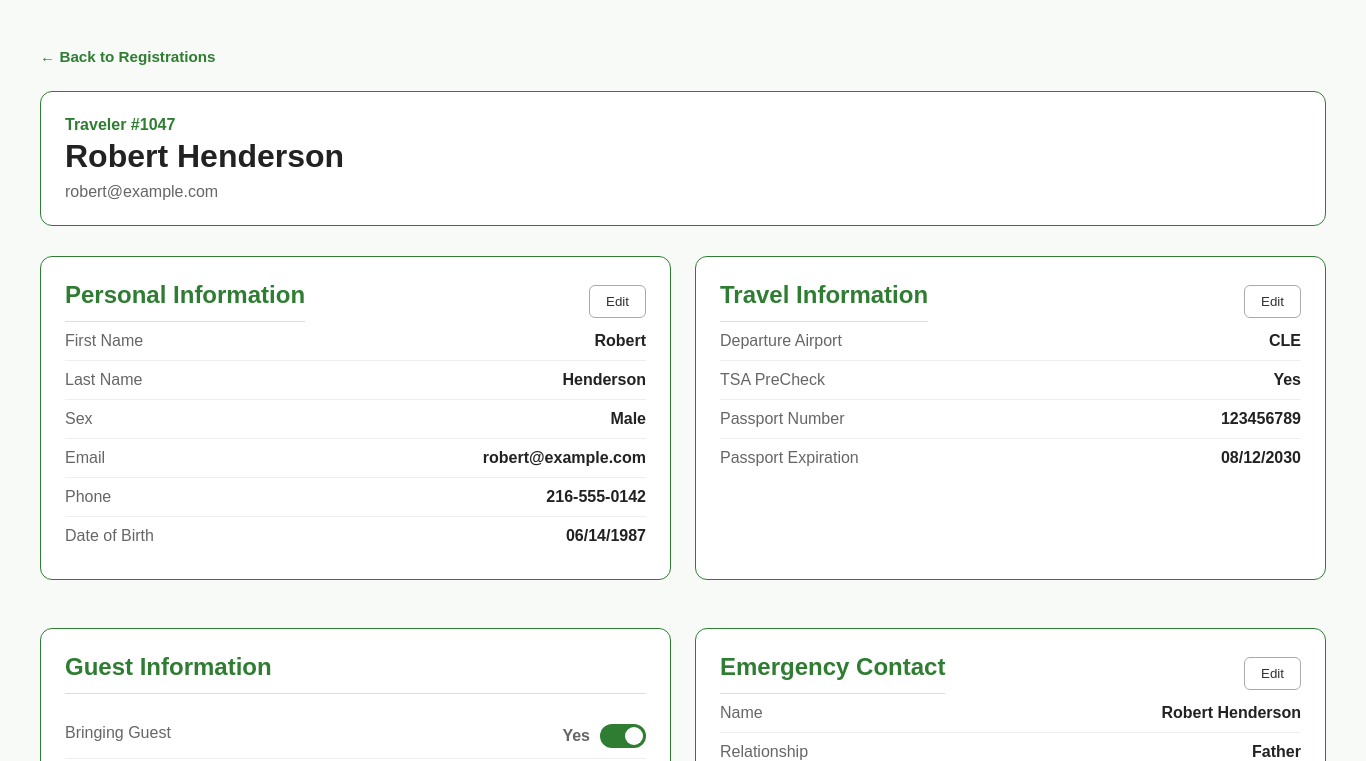
Scenario: RegistrationDetails › provides a sex dropdown and saves the selected sex and date of birth
The width and height of the screenshot is (1366, 761).
Click the button "Edit" in the row of "Personal Information": [618, 302] box [589,285,646,318]
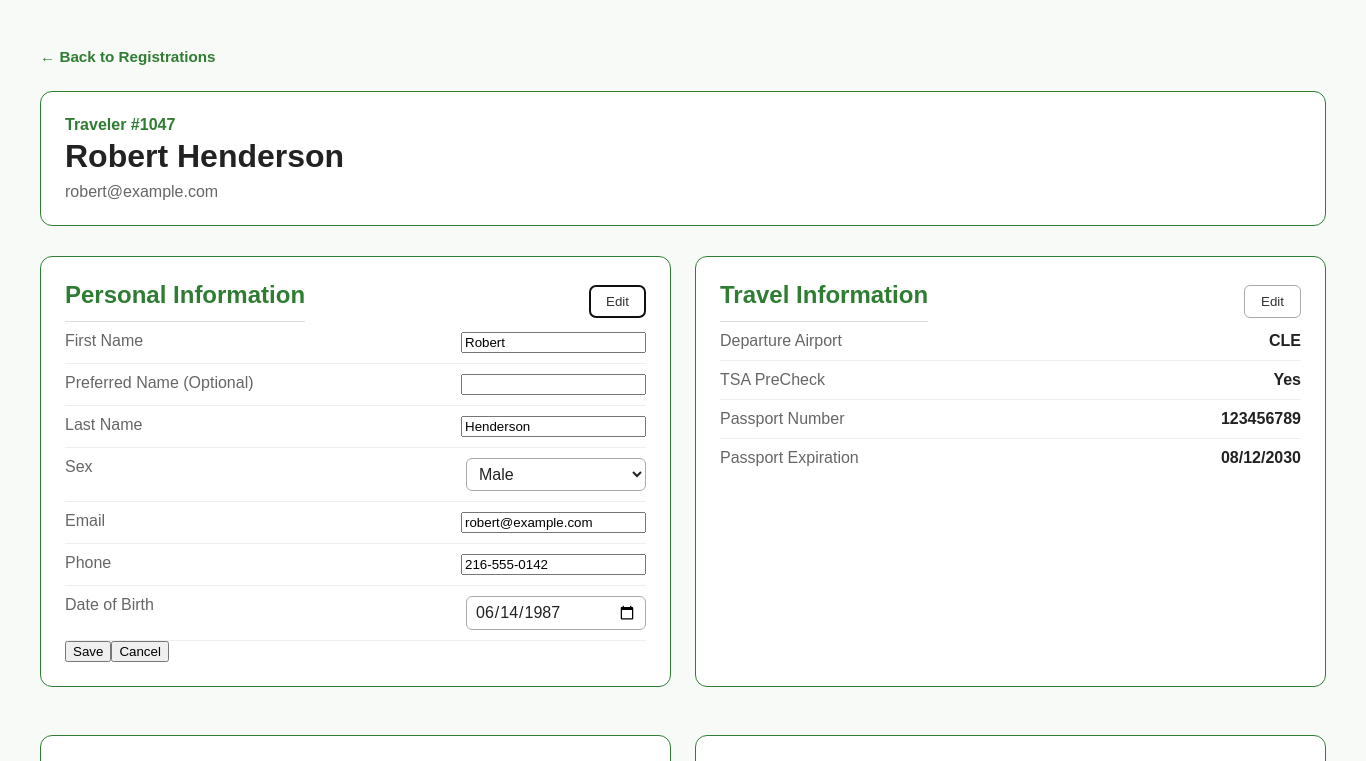
Check: the dropdown named "Sex" shows "Male"
Check: the date field named "Date of Birth" holds "1987-06-14", box [466,596,646,630]
Select "Female" in the dropdown named "Sex": [556, 474] box [466,458,646,491]
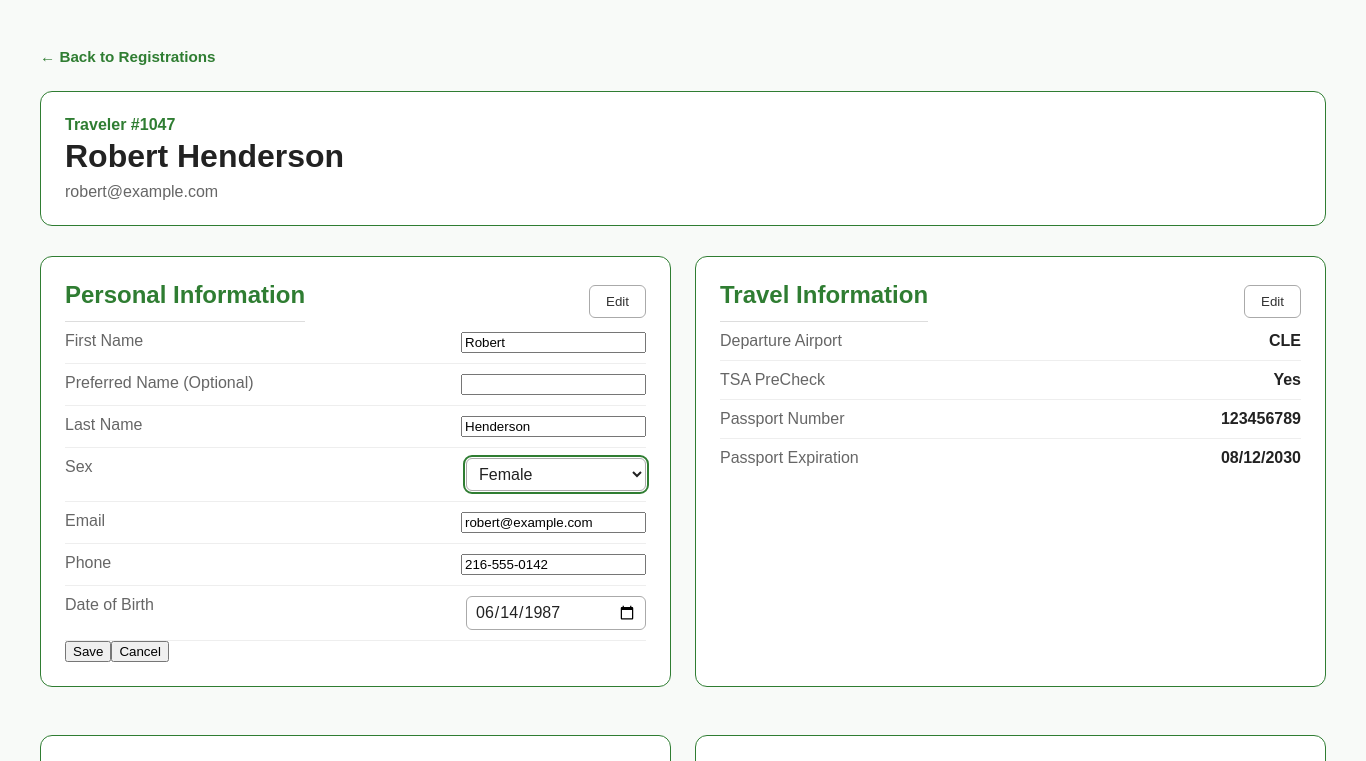
In the date field named "Date of Birth": [556, 613] box [466,596,646,630], type "1990-04-25"
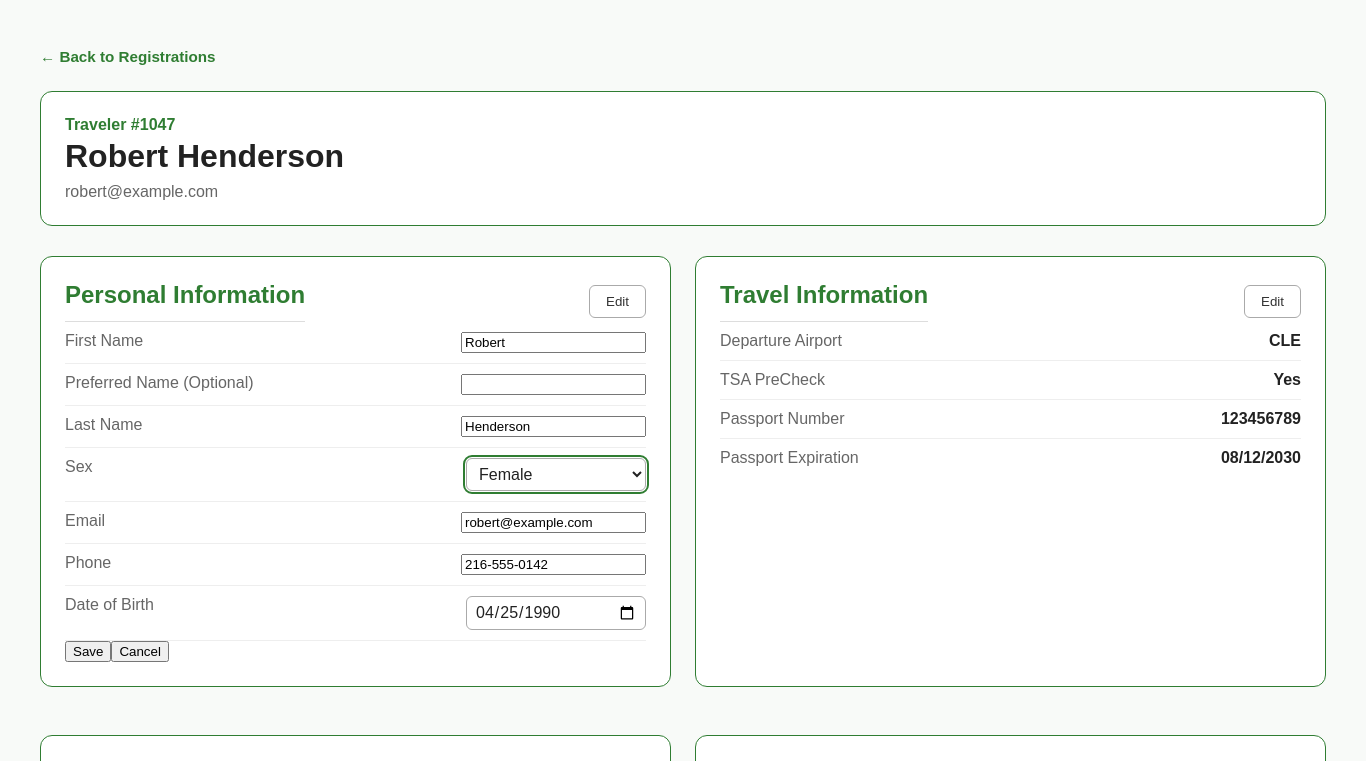
Click the button "Save": [88, 652] box [65,641,111,662]
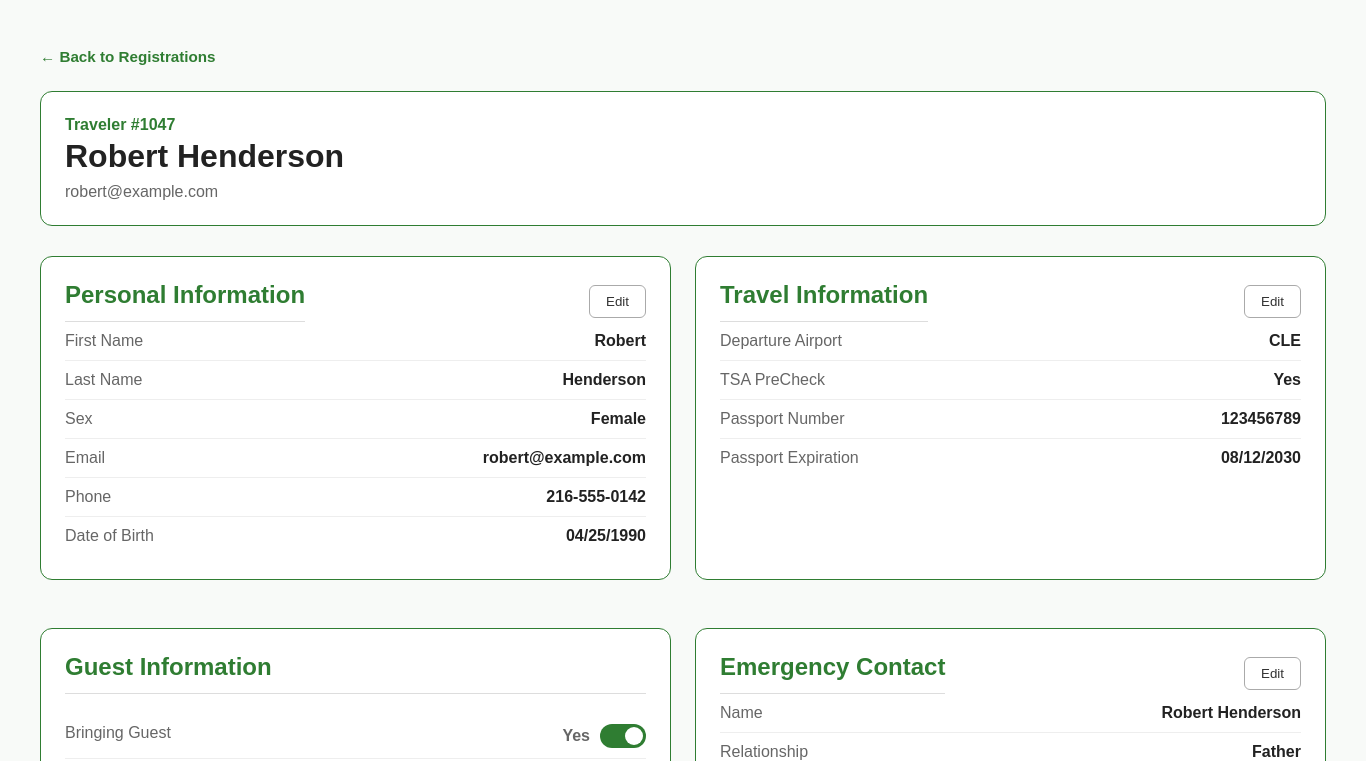
Check: the text "04/25/1990" is shown, box [566,527,646,545]
Check: the text "Female" is shown, box [591,410,646,428]
